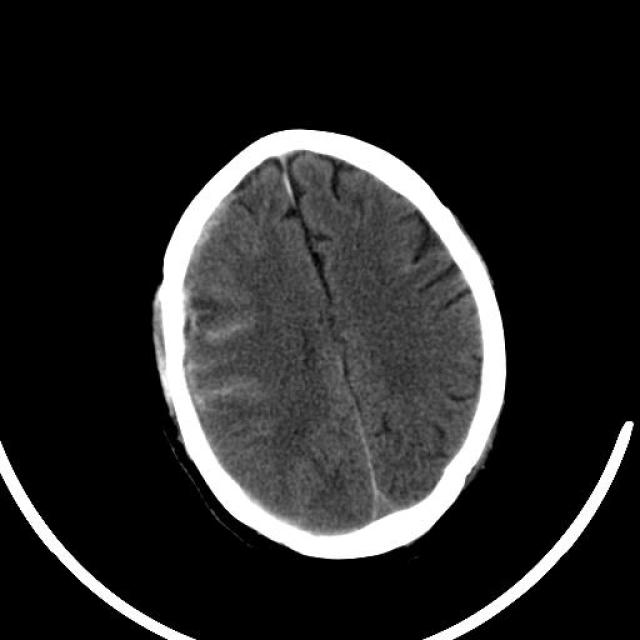Subarachnoid: (188, 296, 280, 414)
Subdural: (170, 169, 250, 301)
